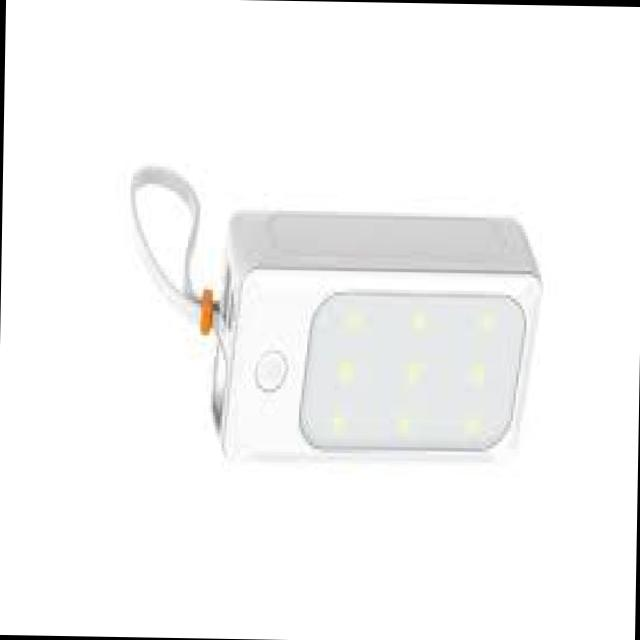portable-charger: (207, 203, 541, 468)
